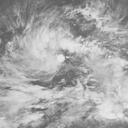cyclone: (7, 17, 121, 117)
